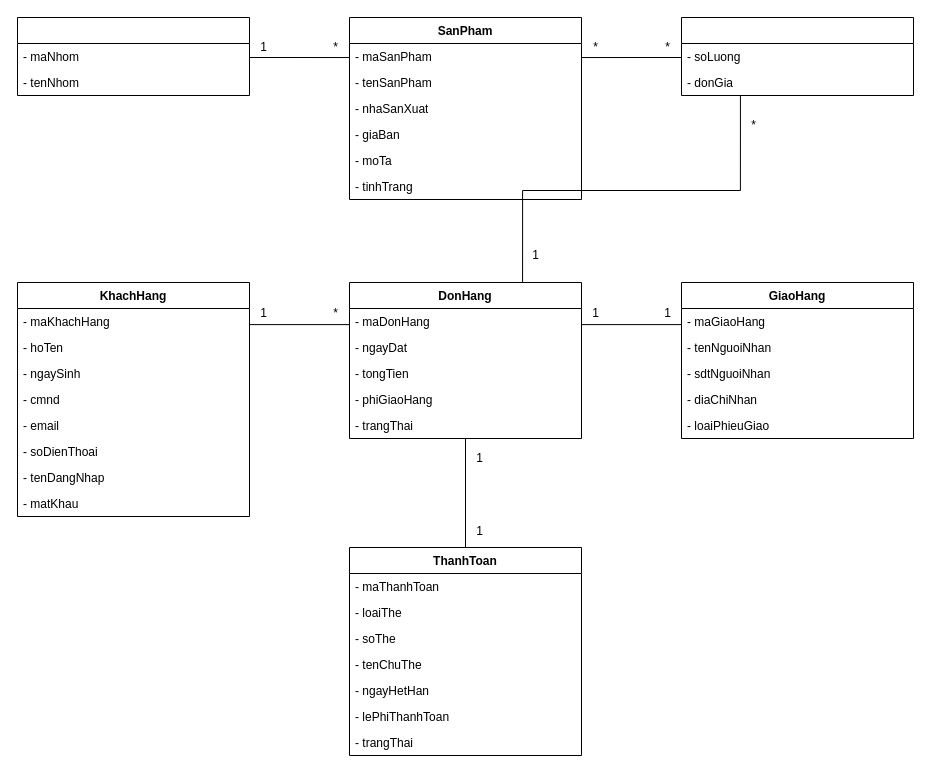
Some shapes in this 931 by 776 pixel diagram are drawn without their labels. The shapes that lost their labels are listed below. From the top down, each one's box as (x1, y1, x2, y2) in pixels, then its label:
(16, 16, 250, 96): NhomSanPham
(680, 16, 914, 96): ChiTietDonHang
